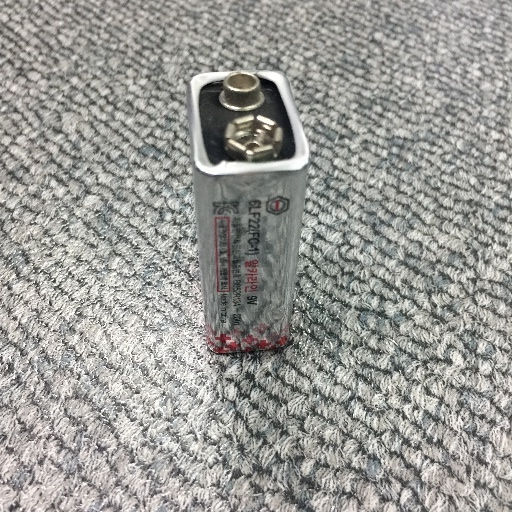Battery_3: (171, 47, 333, 375)
